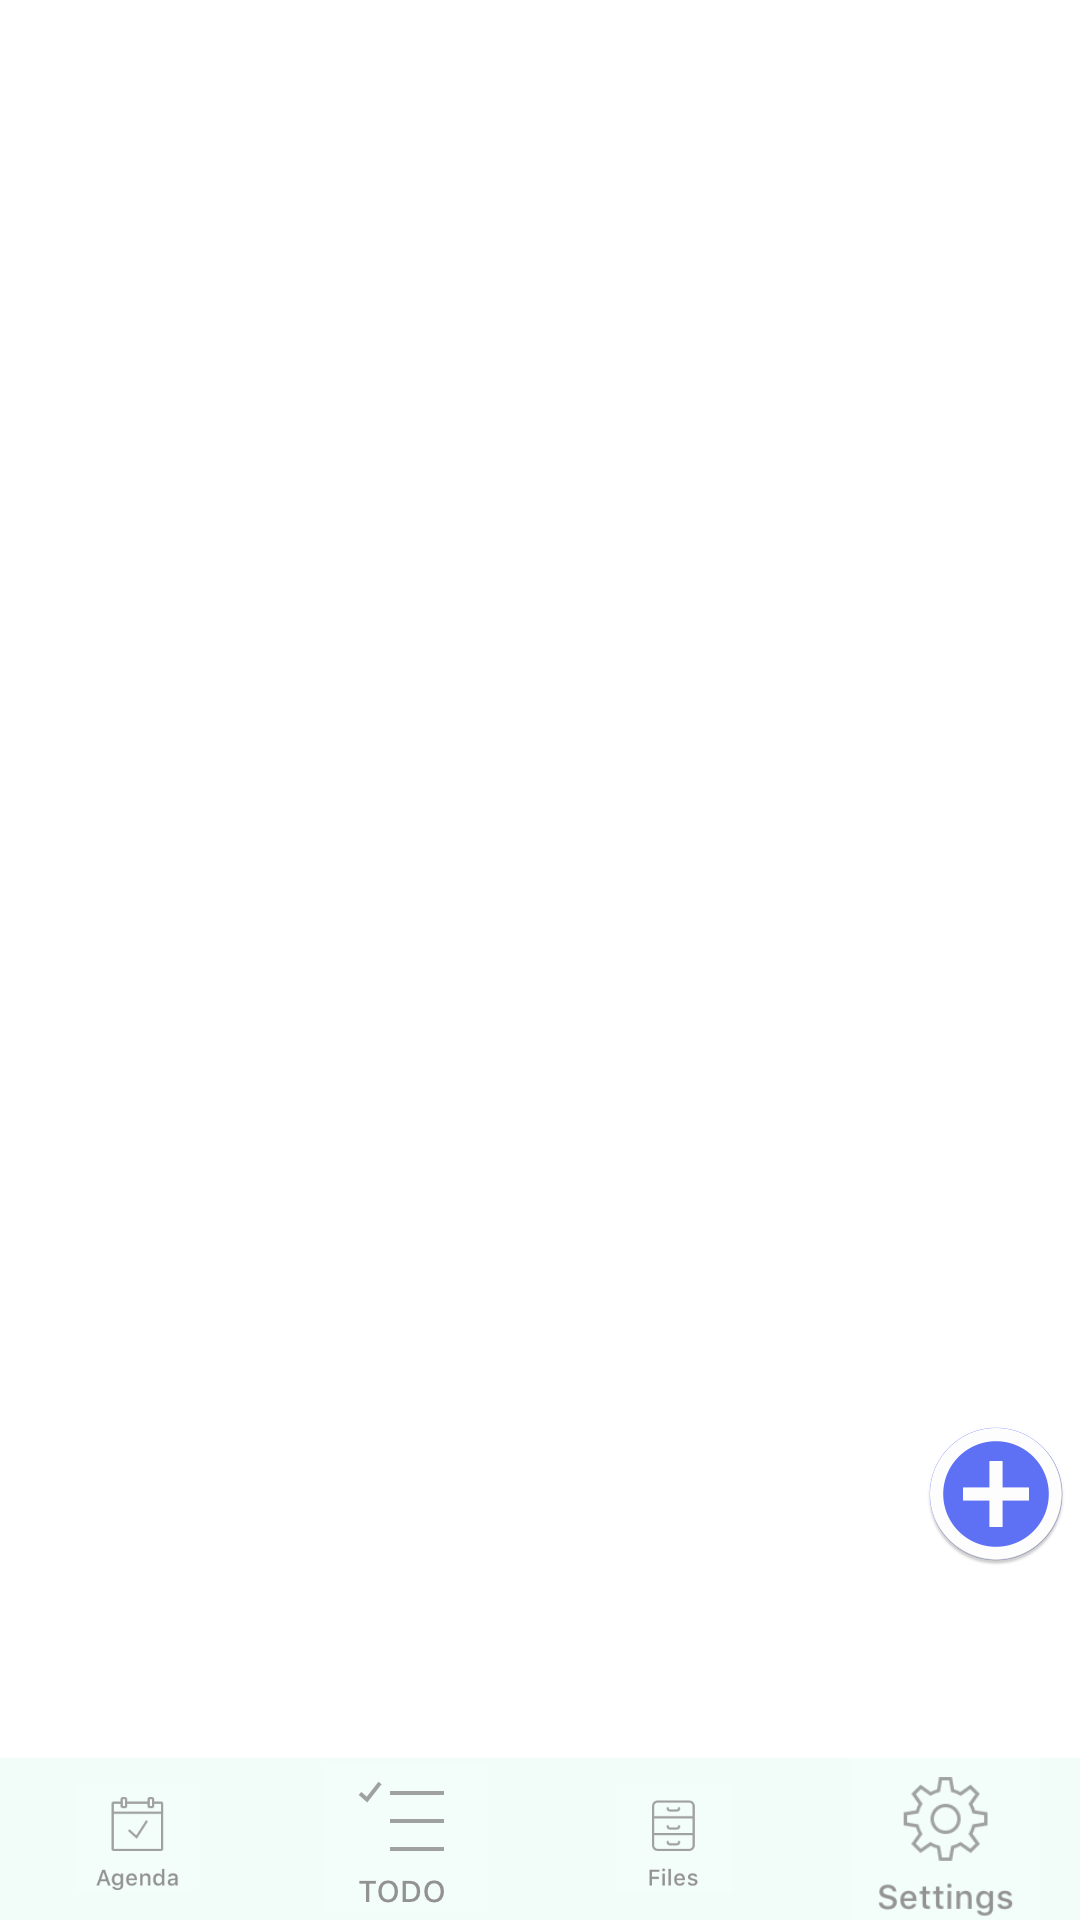

Point at icon controls on the screen. Image size 1080*1920, points as [x,y].
add: [996,1495]
